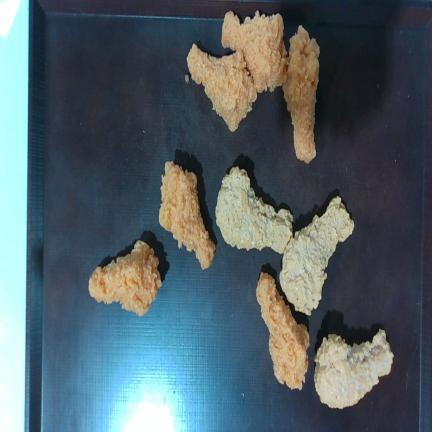chicken: (280, 197, 354, 315), (216, 167, 293, 253), (314, 329, 393, 409), (187, 44, 257, 131), (257, 272, 309, 389), (159, 161, 215, 269), (88, 240, 161, 316), (221, 11, 287, 92), (282, 25, 319, 163)
